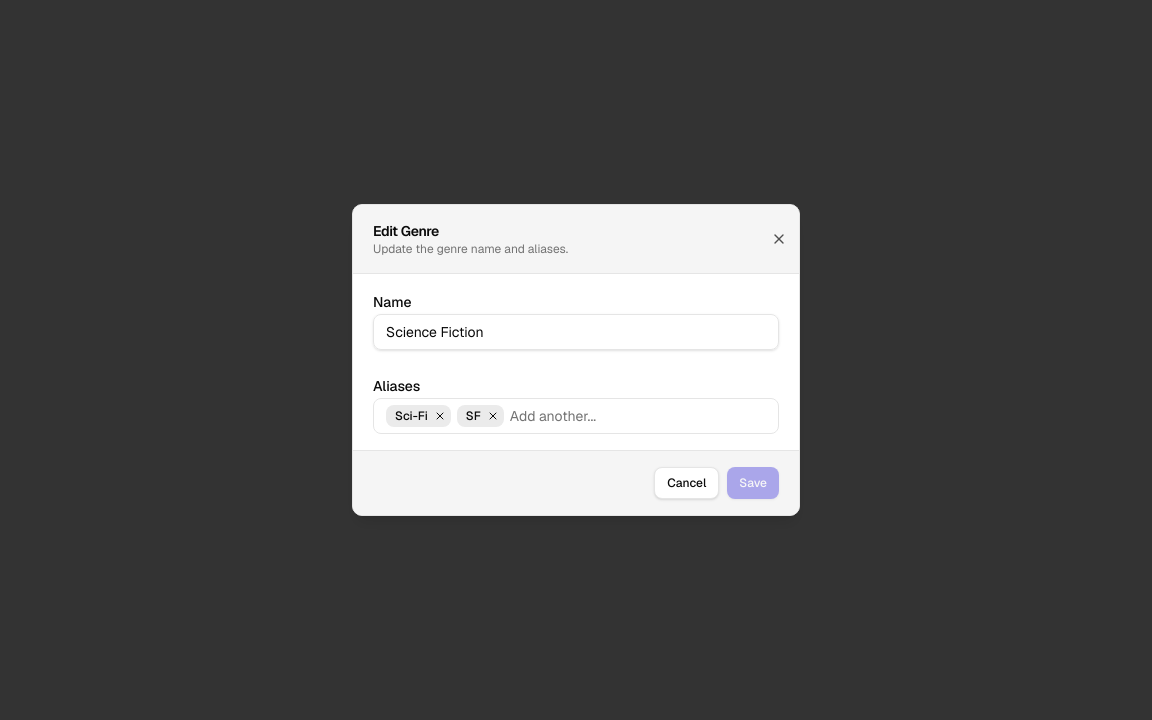
Test: MetadataEditDialog › alias management › should remove alias when clicking X button
Check: the text "Sci-Fi" is shown, box left=395, top=408, right=428, bottom=424
Click the button named "remove alias" at (440, 416), box left=434, top=410, right=446, bottom=422
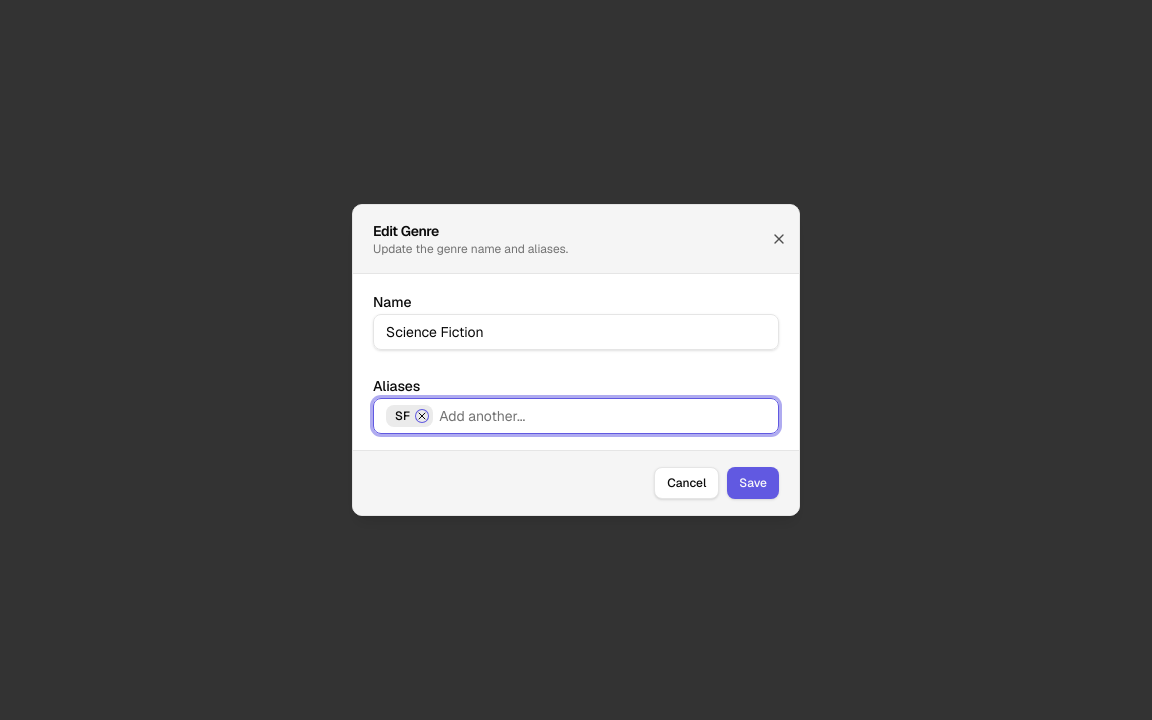
Check: the text "Sci-Fi" is gone
Check: the text "SF" is shown, box left=395, top=408, right=410, bottom=424
